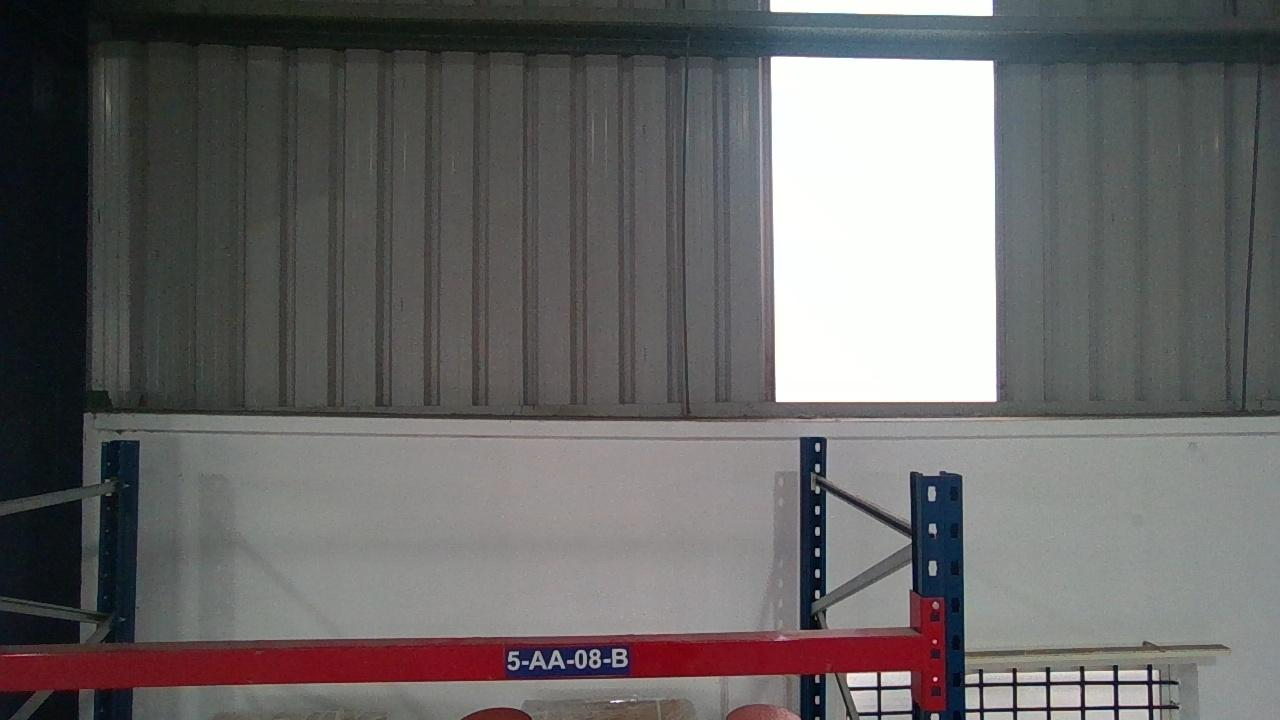h_rack: (1, 637, 922, 687)
